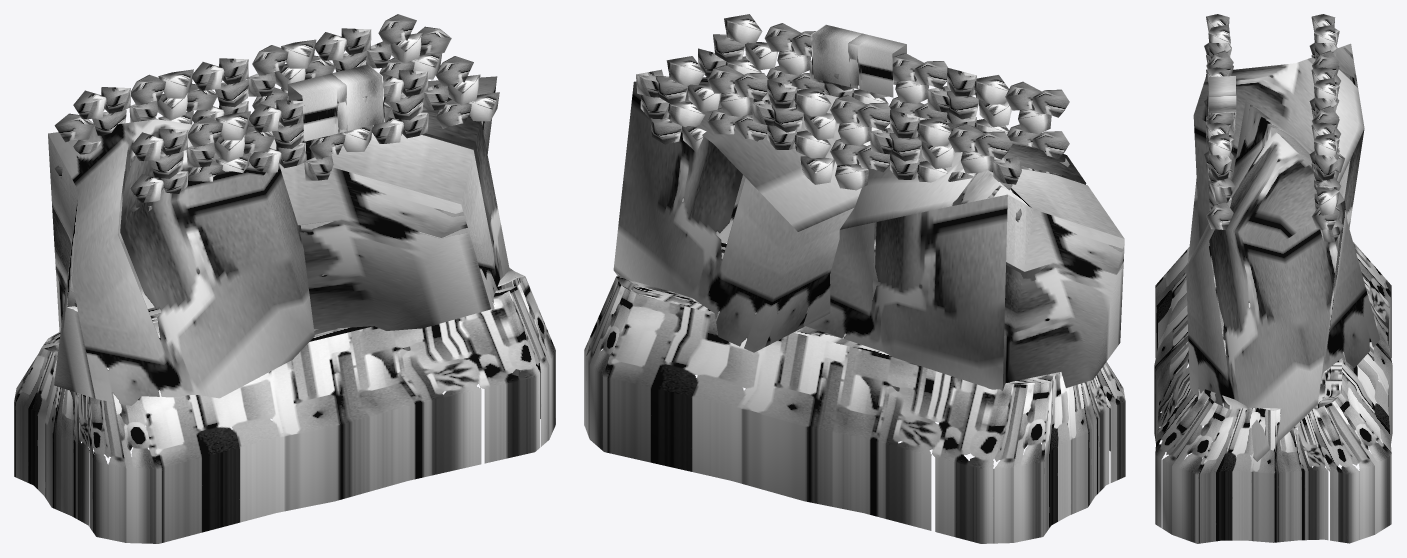
The model's file is wall_short.dae.
3 views of the same model, side by side, from view 1: azimuth 30°, elevation 25°; view 2: azimuth 150°, elevation 25°; view 3: azimuth 270°, elevation 25° (orthographic). The views are drawn at different scales.
Visible parts, largest first — view 1: wall_short; view 2: wall_short; view 3: wall_short.
Boxes of the visible parts, x1,y1,x2,y2 form: wall_short: (14,14,555,543); wall_short: (584,14,1125,543); wall_short: (1154,14,1392,543).
Size of the model in its own units: 20.87 by 9.88 by 16.32.
